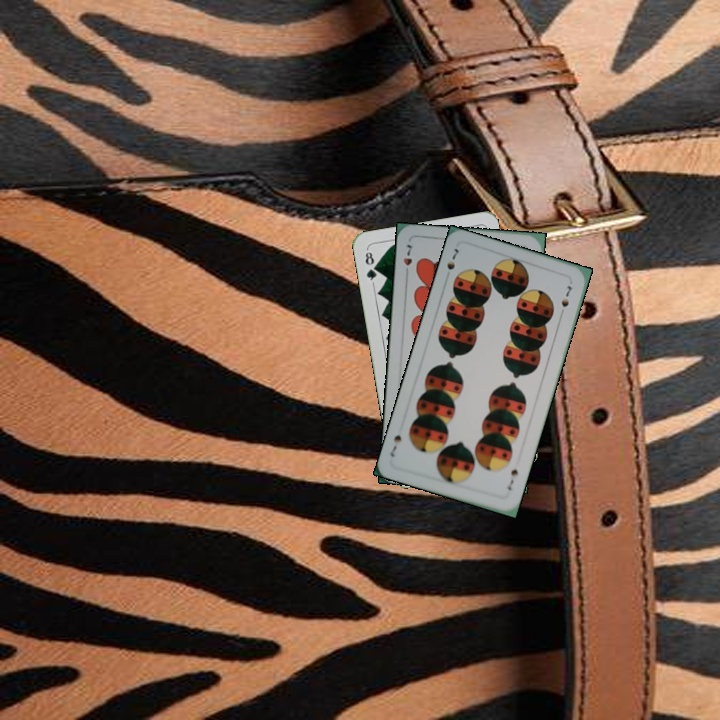G8: (361, 246, 380, 286)
H7: (399, 240, 414, 279)
S7: (441, 244, 461, 282), (504, 465, 521, 493)
